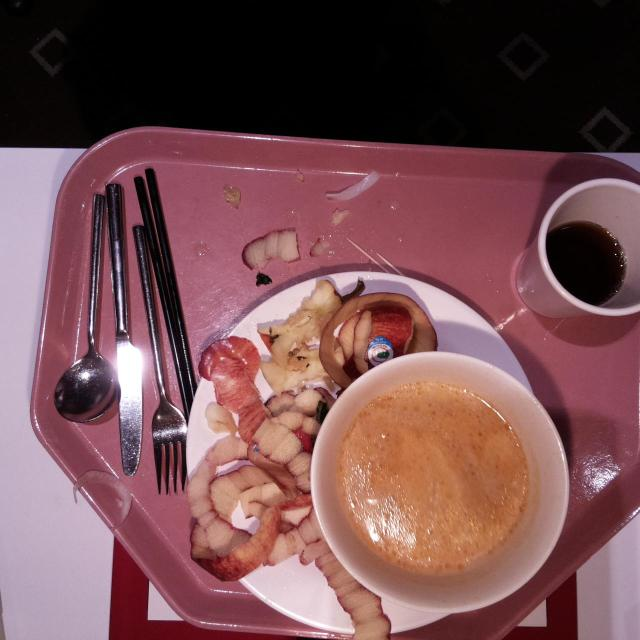Apple-core: (254, 279, 366, 369), (260, 344, 346, 394)
Apple-peel: (295, 512, 393, 639), (189, 462, 291, 581), (320, 290, 436, 392), (198, 337, 263, 440), (249, 408, 314, 478), (241, 225, 303, 269)
